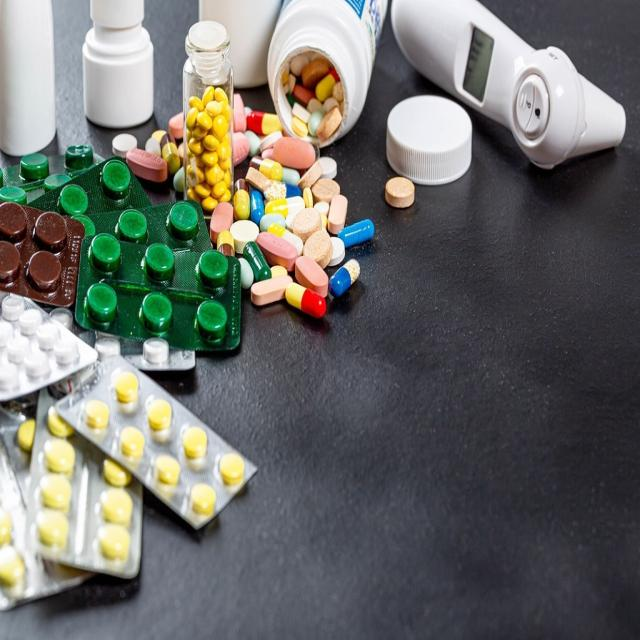Medical Waste: (4, 5, 638, 618)
